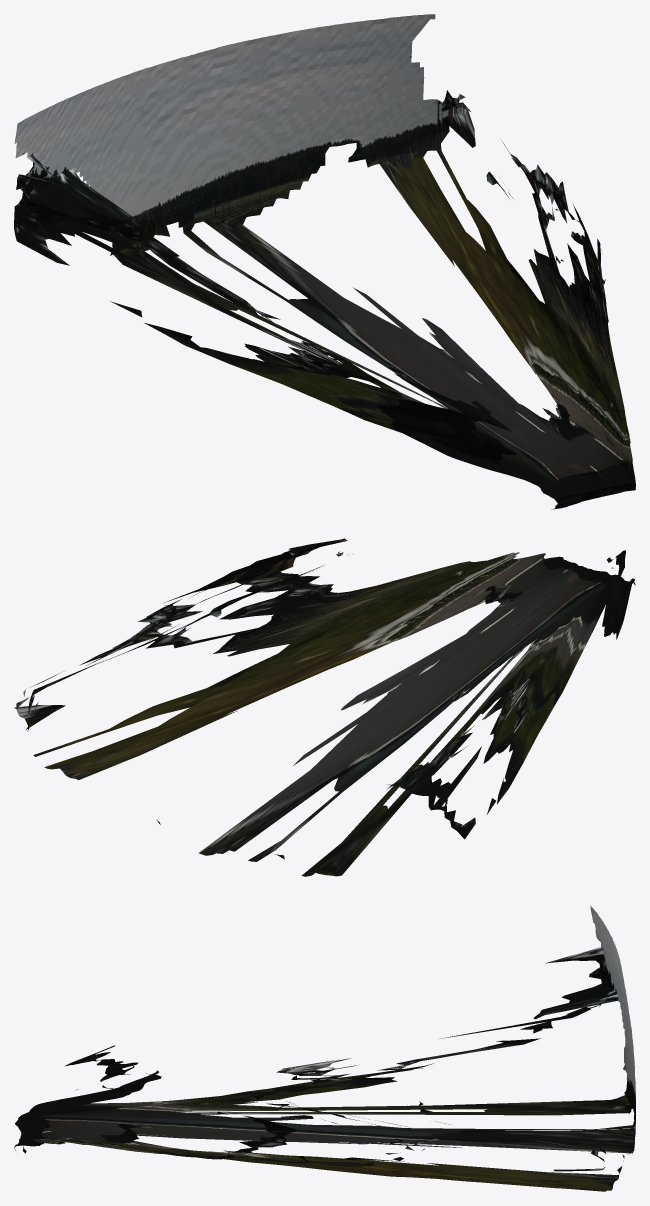
3 views of the same model, one above another, from view 1: azimuth 30°, elevation 25°; view 2: azimuth 150°, elevation 25°; view 3: azimuth 270°, elevation 25° (orthographic). The views are drawn at different scales.
Parts seen in each view (by area): view 1: defaultobject; view 2: defaultobject; view 3: defaultobject.
Boxes of the visible parts, box(x1,y1,x2,y2) form: defaultobject: box(14, 14, 635, 509); defaultobject: box(14, 538, 635, 876); defaultobject: box(14, 906, 635, 1191).
Size of the model in its own units: 30.6 by 12.11 by 44.24.
1 material, 1 textured.
